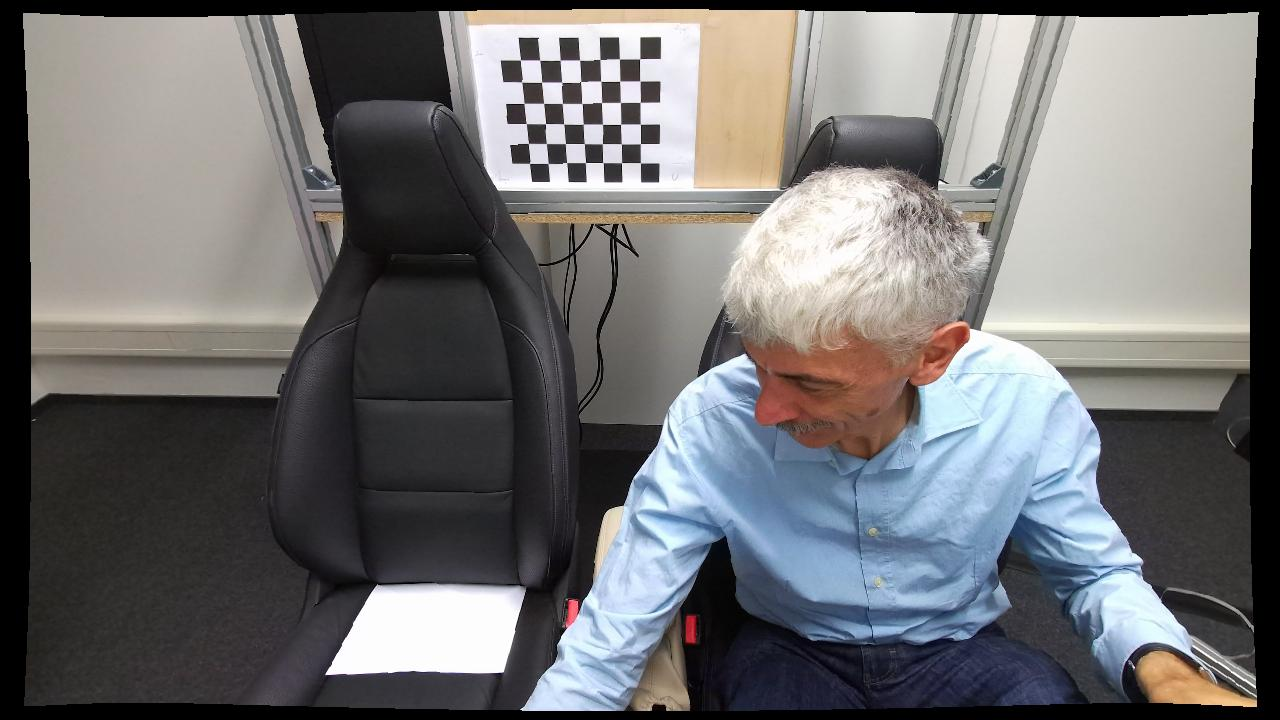Distracted: (522, 158, 1198, 708)
